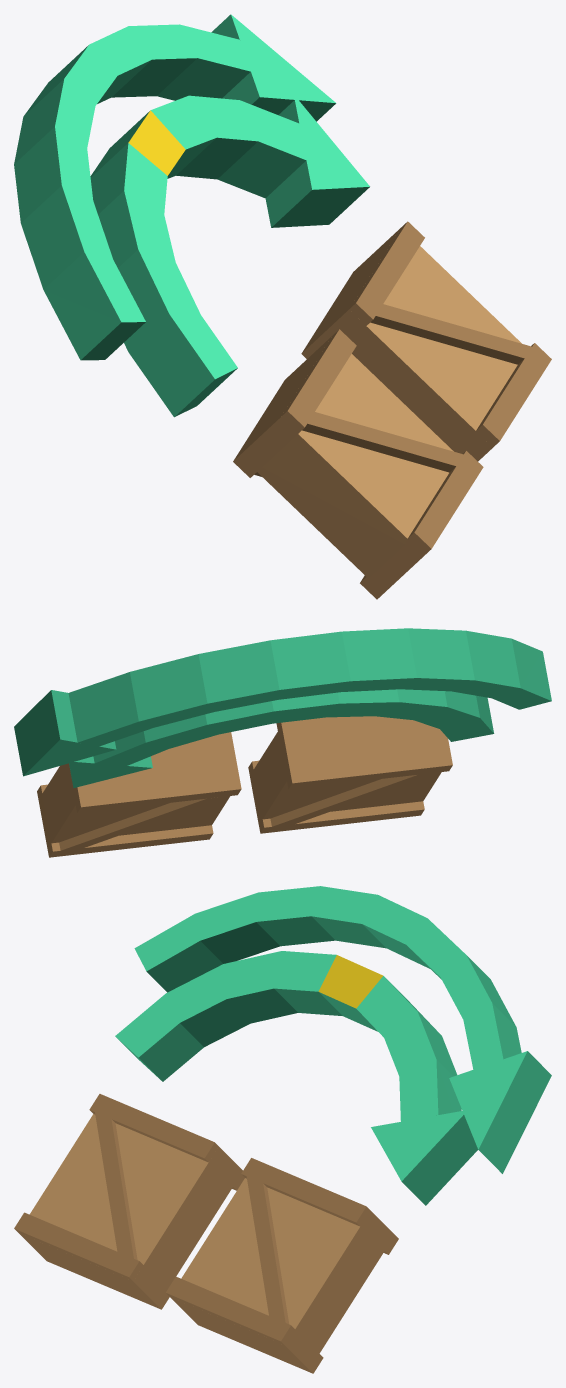
Rendered from advanced_material_transfer.obj.
3 views of the same model, one above another, from view 1: azimuth 30°, elevation 25°; view 2: azimuth 150°, elevation 25°; view 3: azimuth 270°, elevation 25° (orthographic). The views are drawn at different scales.
Bounding box in the file's own units: 1.19 × 0.8316 × 1.25.
